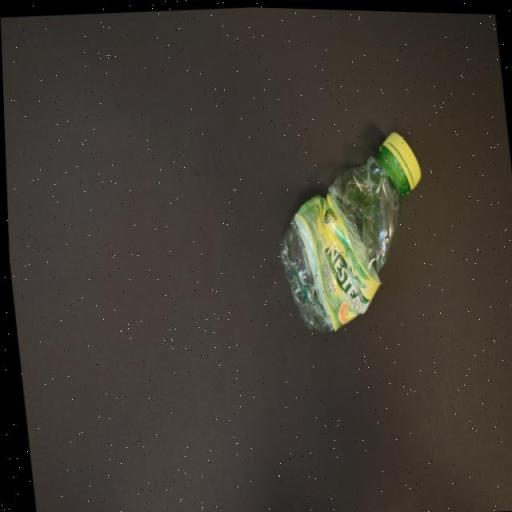plastic: (265, 123, 436, 338)
